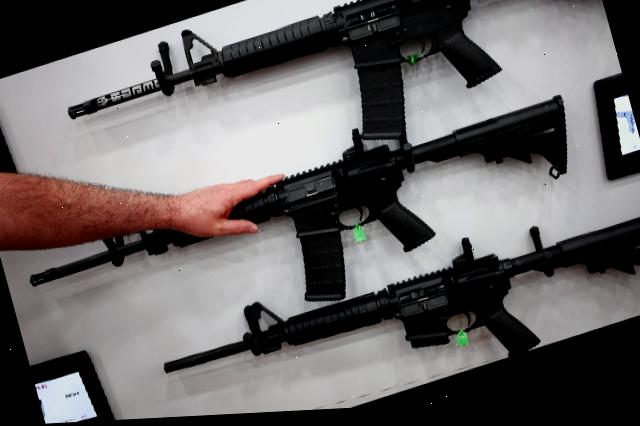rifle: (18, 81, 600, 394), (36, 0, 620, 244), (147, 180, 640, 420)
